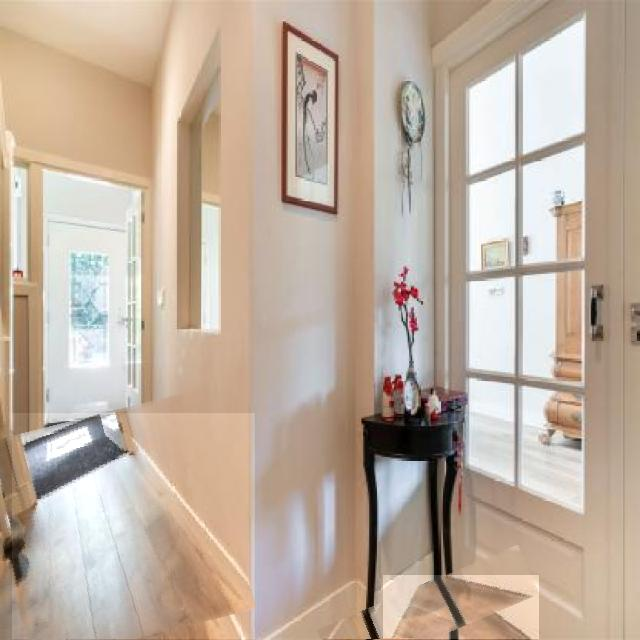floor: (12, 413, 255, 640), (384, 576, 539, 639), (361, 636, 367, 640)
